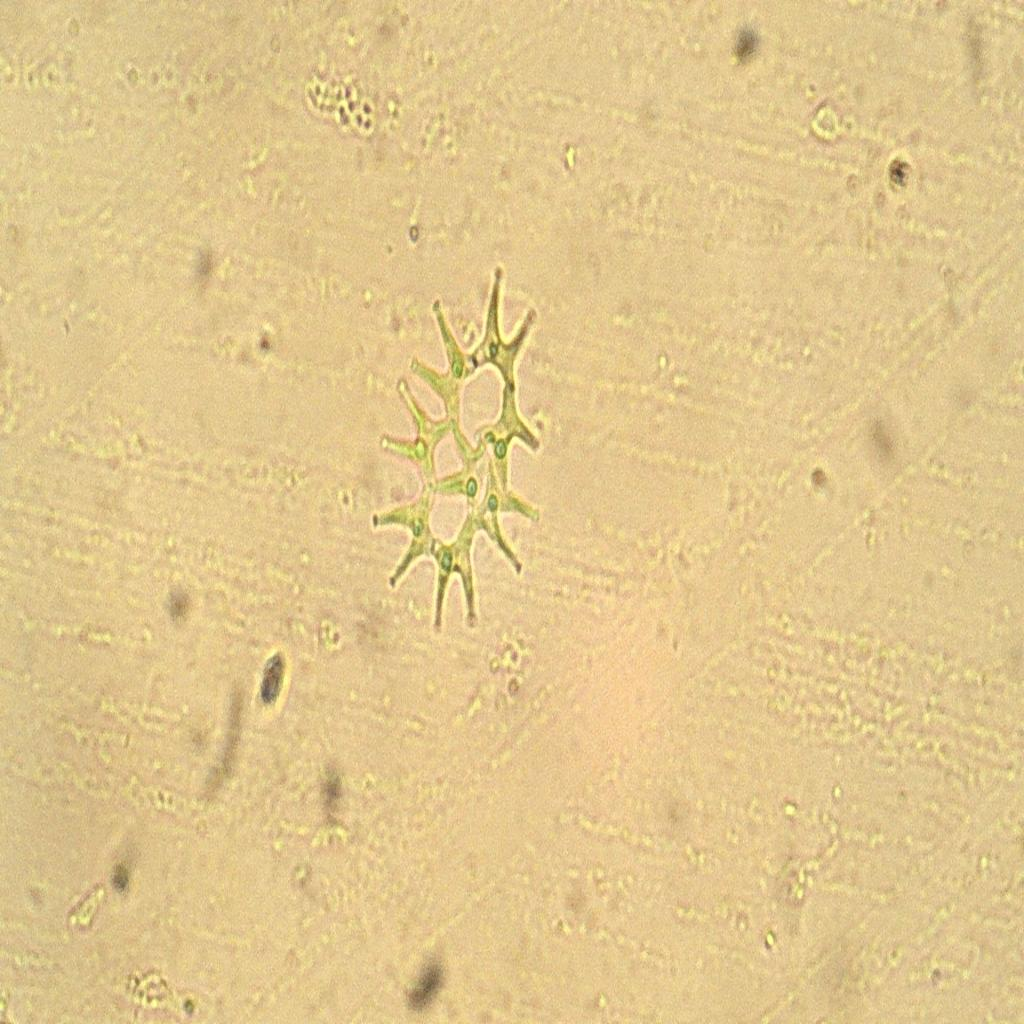Pediastrum_CFI: (366, 241, 543, 640)
